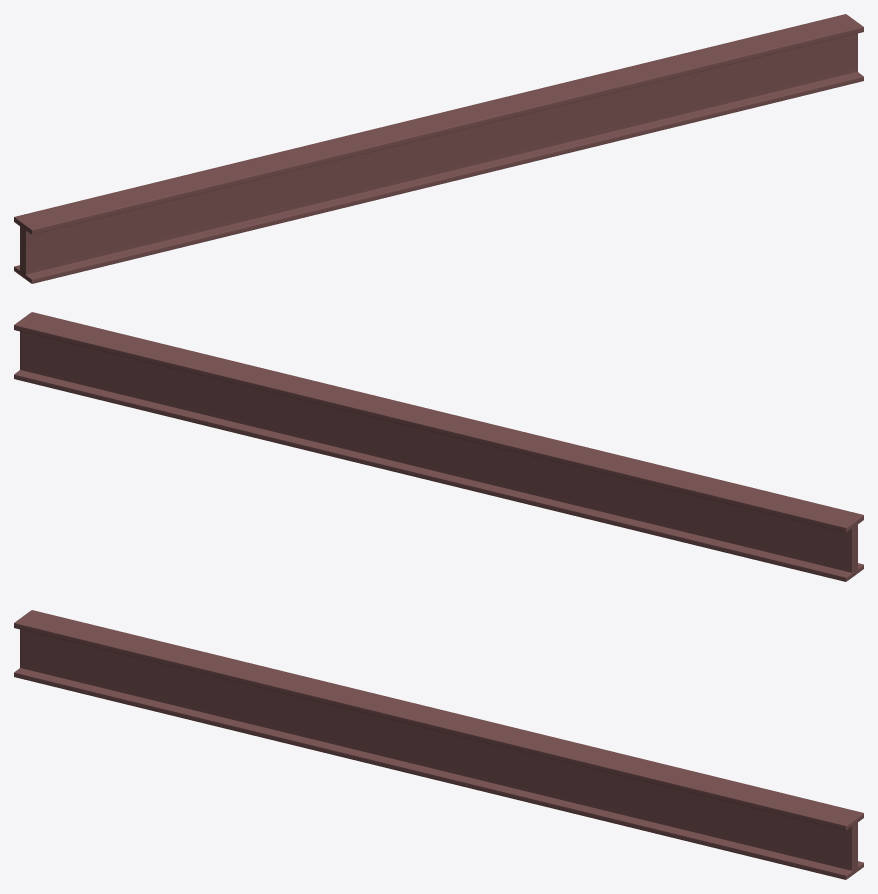
The model's file is Beam_L16.fbx.
3 views of the same model, one above another, from view 1: azimuth 30°, elevation 25°; view 2: azimuth 150°, elevation 25°; view 3: azimuth 330°, elevation 25° (orthographic).
Parts seen in each view (by area): view 1: Beam_L16; view 2: Beam_L16; view 3: Beam_L16.
Part boxes in pixels (x1,y1,x2,y2): Beam_L16: (14, 14, 863, 283); Beam_L16: (14, 312, 863, 581); Beam_L16: (14, 610, 863, 879).
Size of the model in its own units: 16 by 1 by 0.6.
